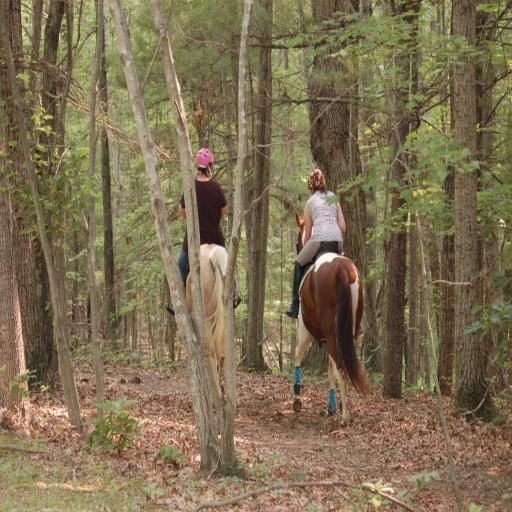Horse: (294, 212, 368, 430), (184, 239, 234, 417)
